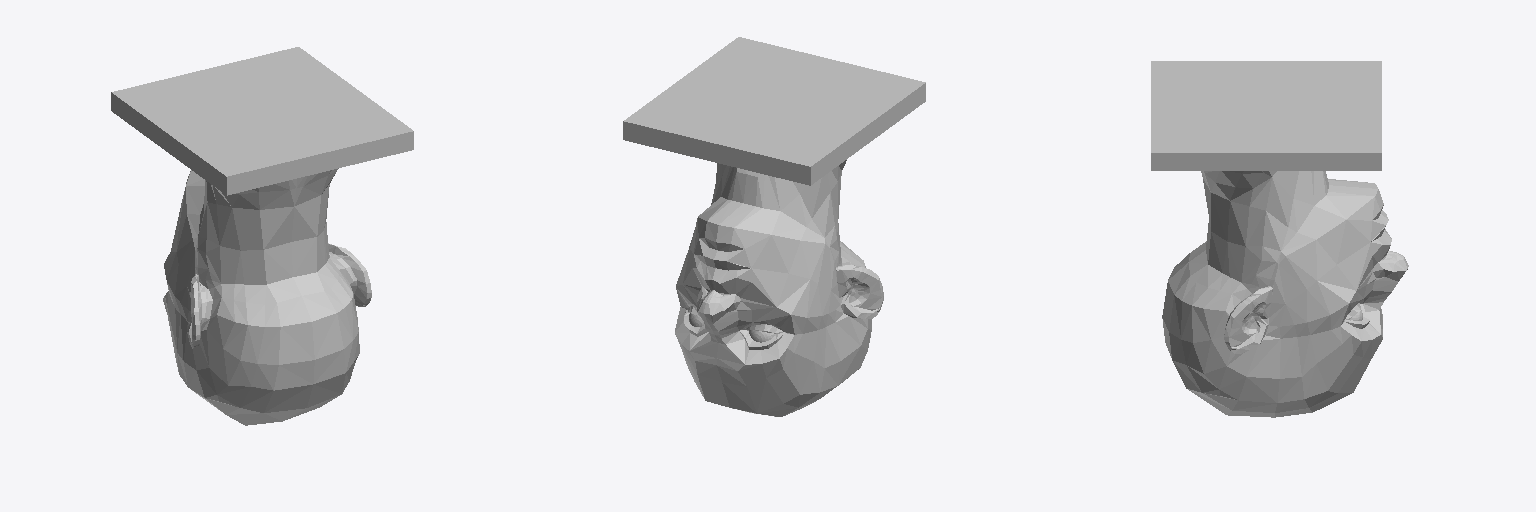
File: asaro-head3.obj
3 views of the same model, side by side, from view 1: azimuth 30°, elevation 25°; view 2: azimuth 150°, elevation 25°; view 3: azimuth 270°, elevation 25° (orthographic).
Parts seen in each view (by area): view 1: mesh0.dat; view 2: mesh0.dat; view 3: mesh0.dat.
Boxes of the visible parts, box(x1,y1,x2,y2) form: mesh0.dat: box(111, 47, 413, 425); mesh0.dat: box(623, 37, 925, 416); mesh0.dat: box(1151, 61, 1408, 417).
Bounding box in the file's own units: 2.85 × 4.34 × 3.4.